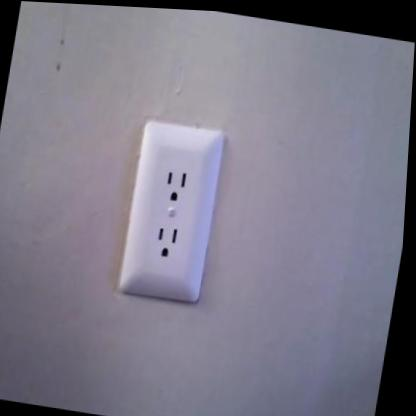OUTLET: (115, 117, 228, 307)
